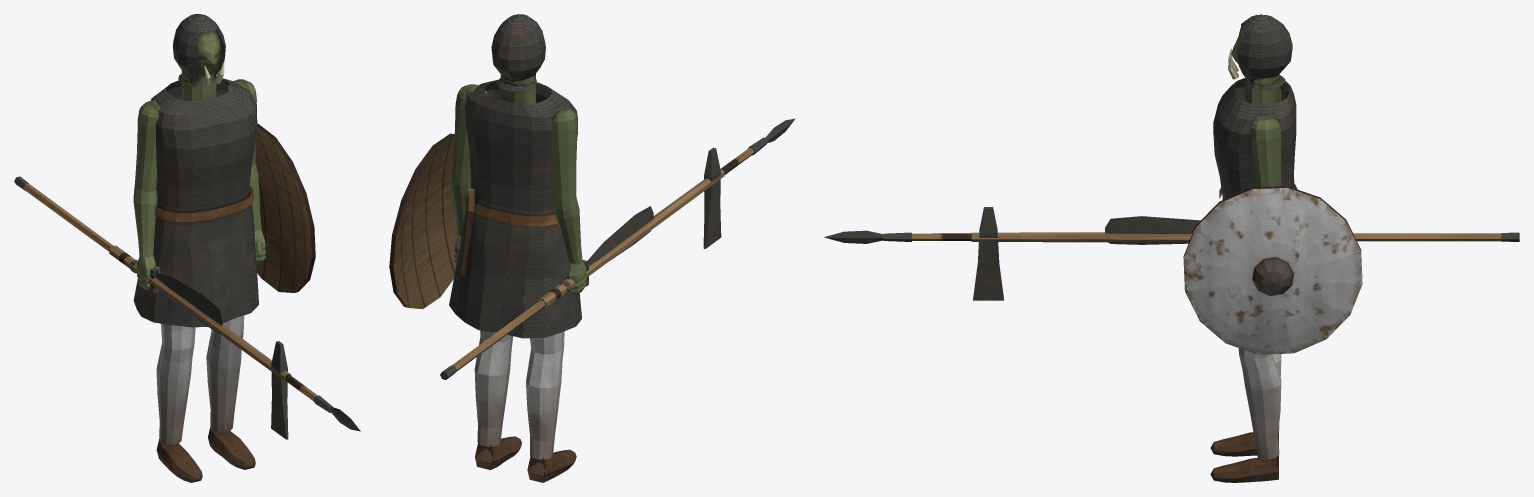
File: orcs.glb
3 renders of one model, left to right at view 1: azimuth 30°, elevation 25°; view 2: azimuth 150°, elevation 25°; view 3: azimuth 270°, elevation 25°, orthographic. The views are drawn at different scales.
Parts seen in each view (by area): view 1: orcs_LOD0; view 2: orcs_LOD0; view 3: orcs_LOD0.
Boxes of the visible parts, x1,y1,x2,y2 form: orcs_LOD0: (14,14,360,482); orcs_LOD0: (389,14,795,482); orcs_LOD0: (824,14,1519,482).
Size of what is drawn, in the model's own units: 0.6813 by 1.76 by 2.46.
Materials: 1 (1 with a texture image).
